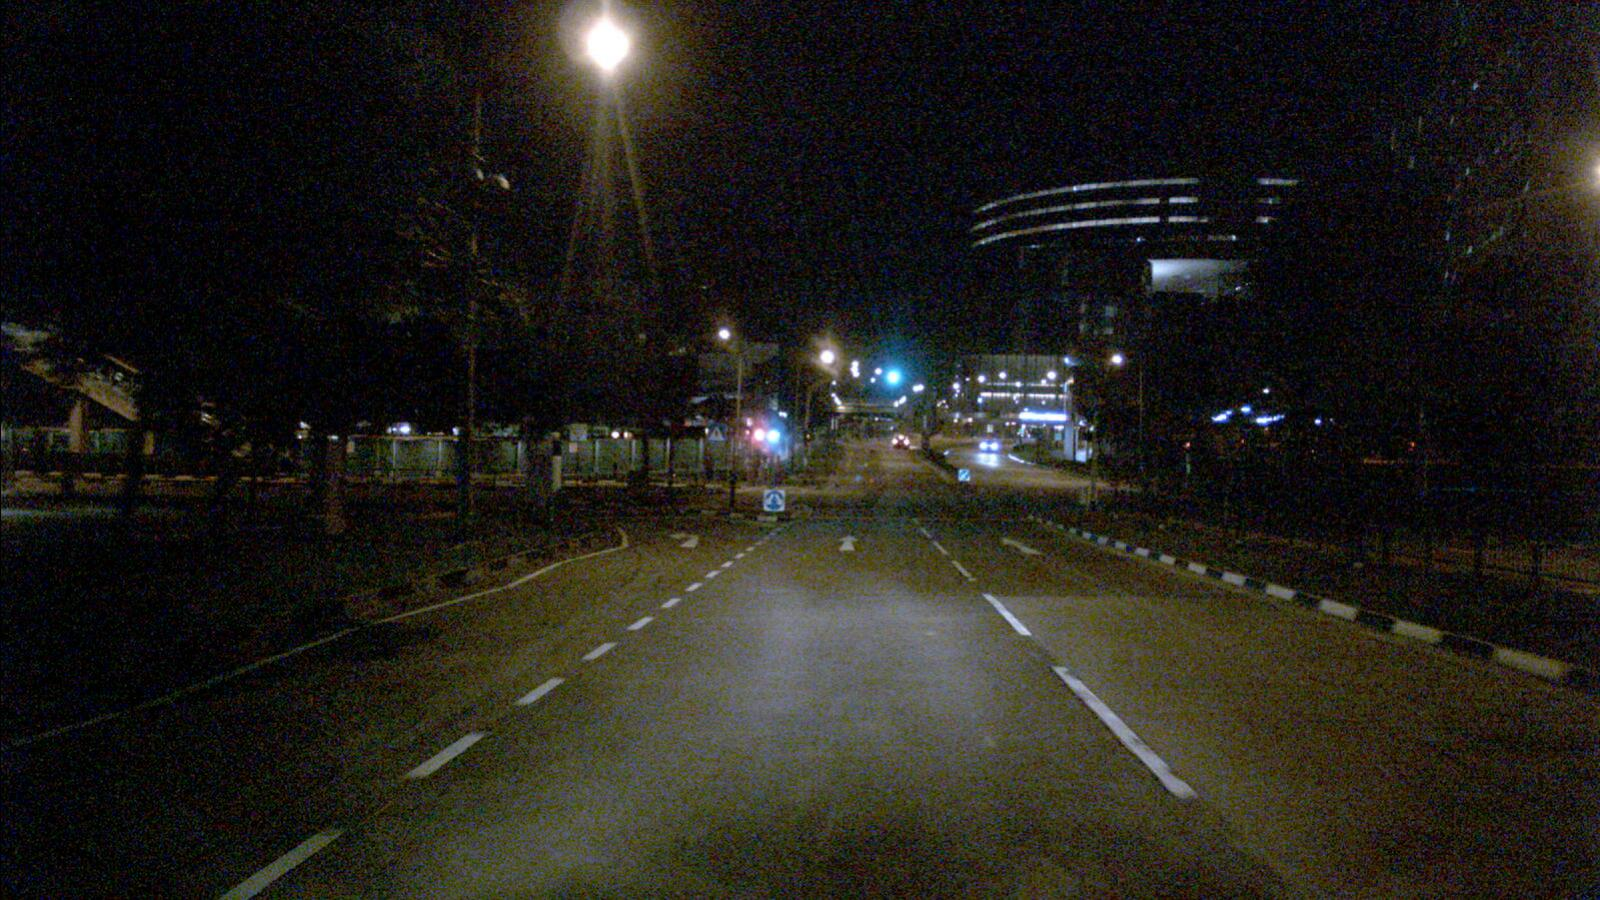human.pedestrian.adult-pedestrian.moving: (743, 454, 756, 487), (703, 454, 714, 484), (759, 457, 770, 485)
